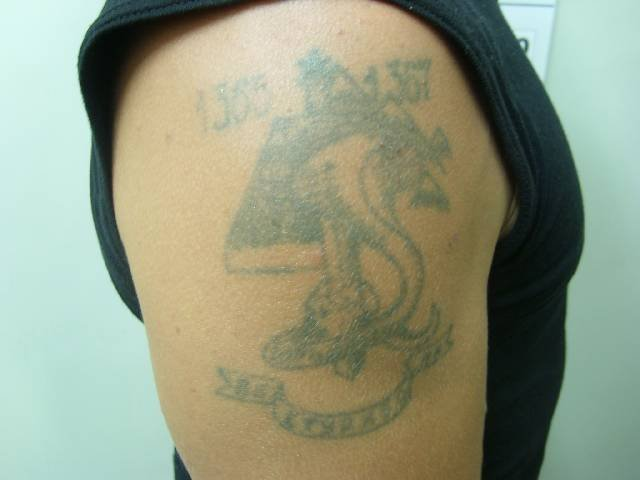tatu7_zmeya: (289, 118, 454, 378)
